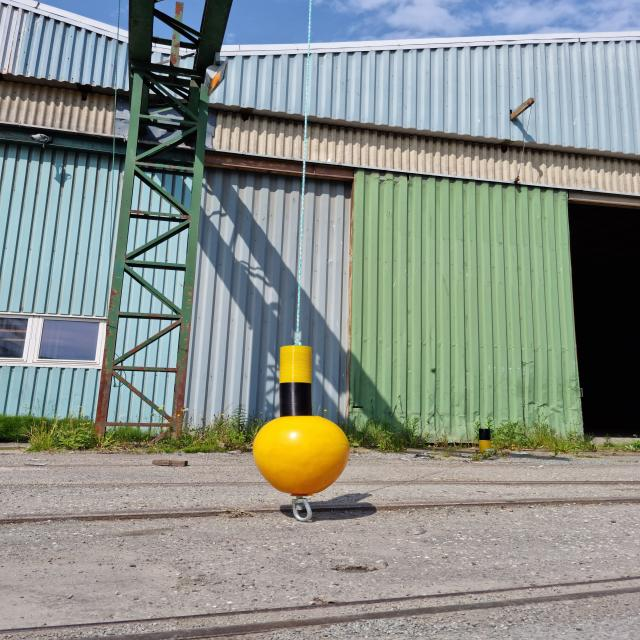west: (253, 344, 351, 496)
